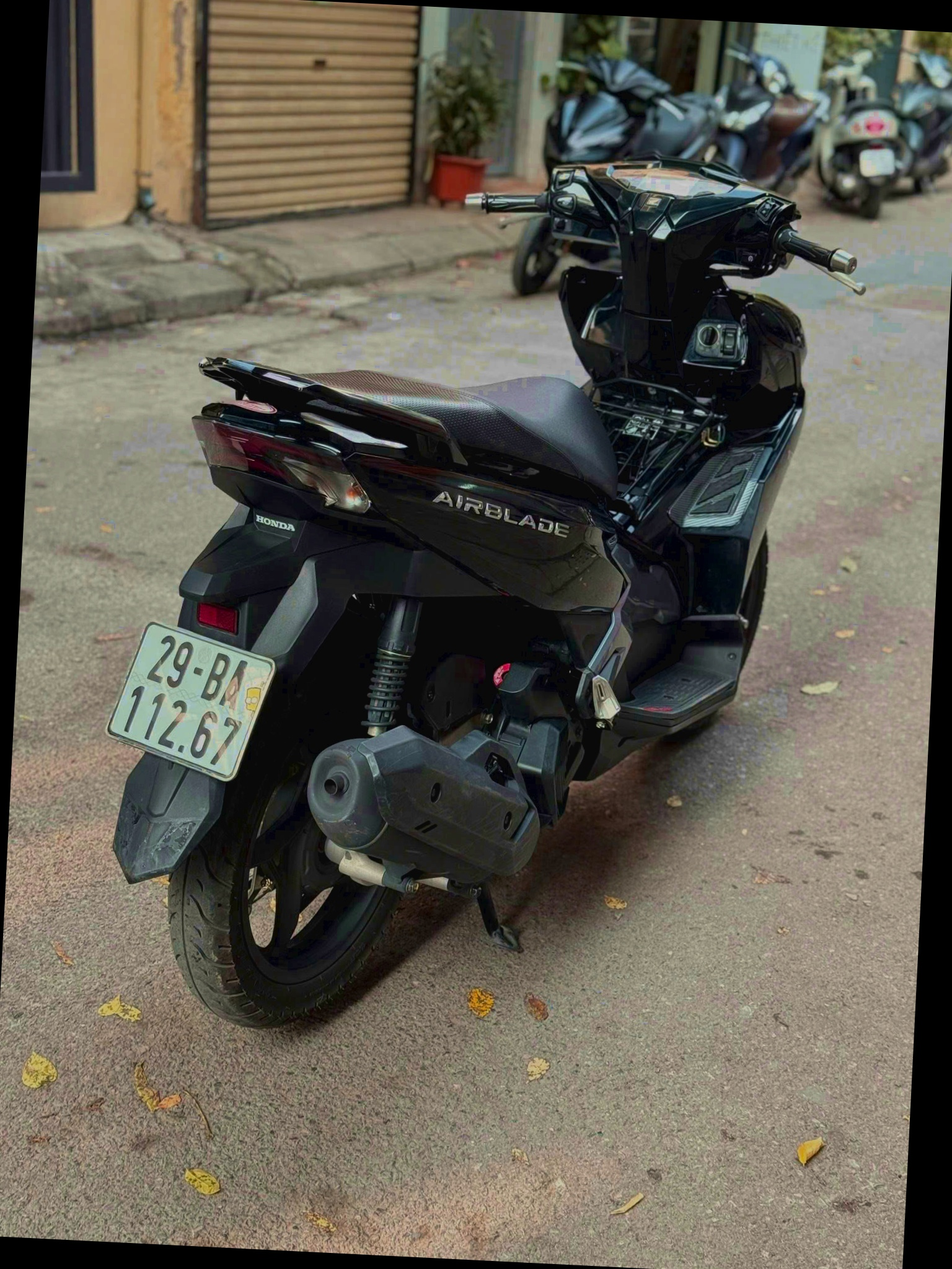Bien-so: (103, 634, 273, 798)
